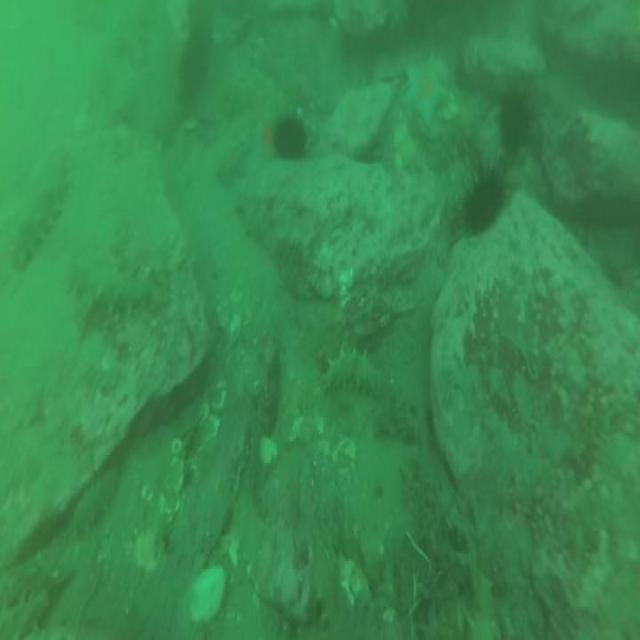echinus: (455, 164, 507, 242), (497, 82, 531, 161), (181, 30, 215, 100), (270, 107, 310, 166)
holothurian: (7, 139, 70, 278), (68, 258, 178, 324), (308, 531, 366, 640), (66, 460, 121, 542), (318, 344, 387, 396), (0, 583, 56, 640)
scallop: (186, 564, 226, 626)
